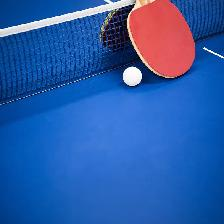WhiteBall: (122, 66, 142, 85)
